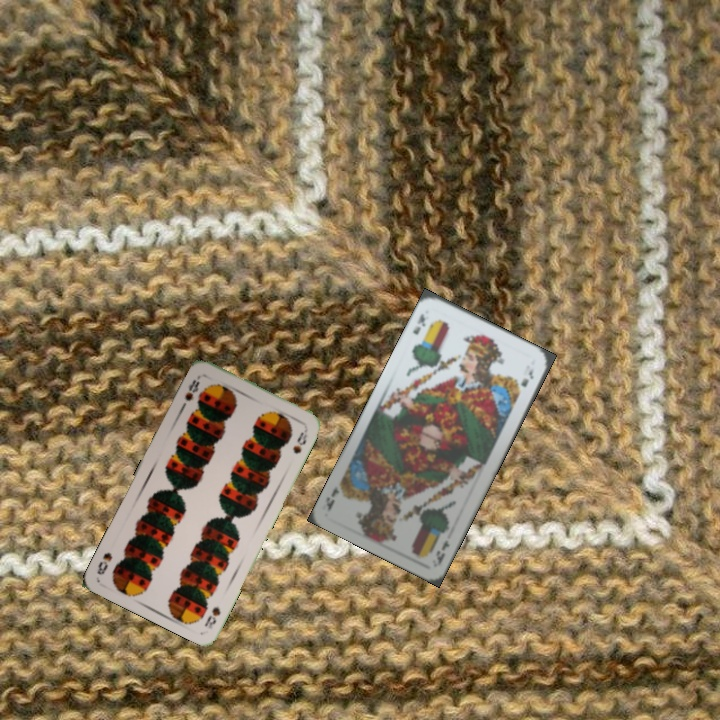EK: (432, 536, 452, 568), (408, 310, 428, 337)
S8: (181, 371, 203, 404), (200, 602, 223, 631)
